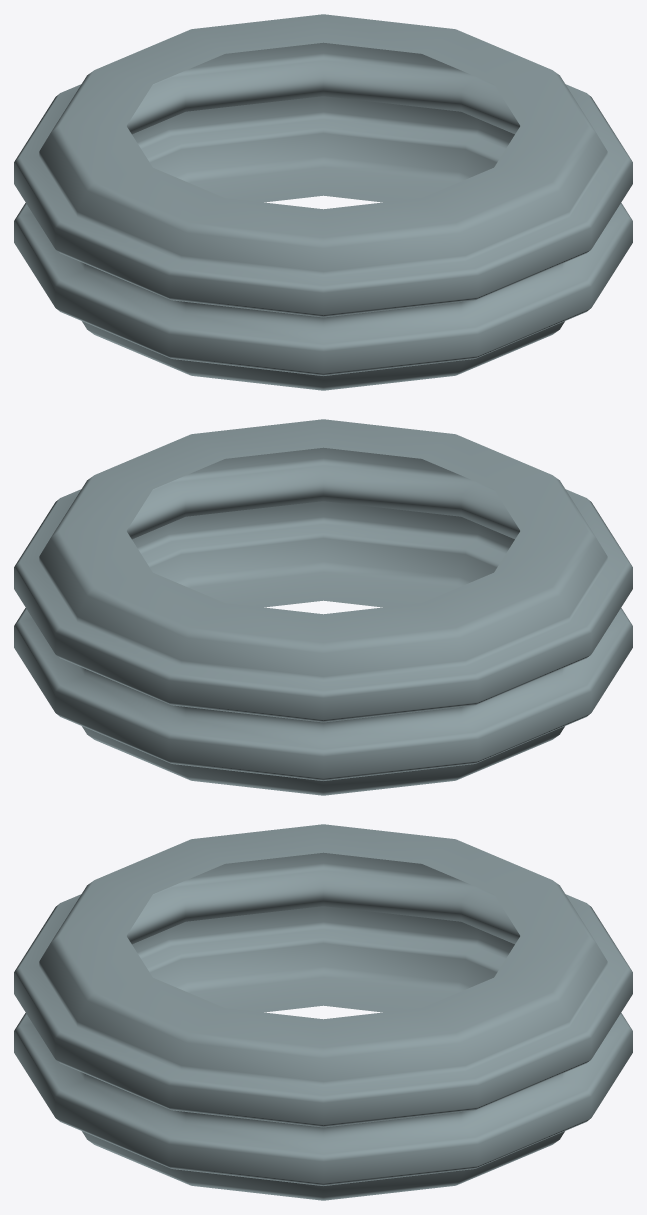
Rendered from spouting-flange-unit-authored-atlas.glb.
3 renders of one model, top to bottom at view 1: azimuth 30°, elevation 25°; view 2: azimuth 150°, elevation 25°; view 3: azimuth 270°, elevation 25°, orthographic.
Parts seen in each view (by area): view 1: Authored surface; view 2: Authored surface; view 3: Authored surface.
Part boxes in pixels (x1,y1,x2,y2): Authored surface: [14, 14, 632, 390]; Authored surface: [14, 419, 632, 795]; Authored surface: [14, 824, 632, 1200].
Size of the model in its own units: 0.44 by 0.12 by 0.44.
Materials: 1 (1 with a texture image).
